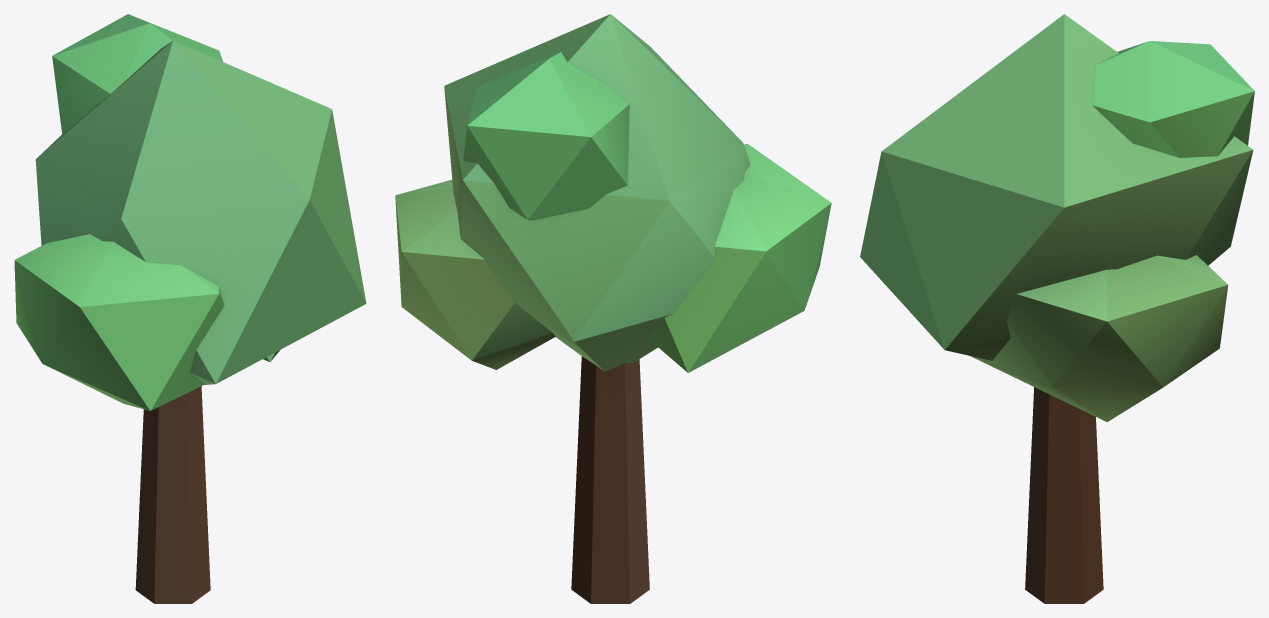
File: area_spring_2_3.fbx
The picture shows the model from 3 angles, left to right: view 1: azimuth 30°, elevation 25°; view 2: azimuth 150°, elevation 25°; view 3: azimuth 270°, elevation 25°; orthographic projection. The views are drawn at different scales.
Visible parts, largest first — view 1: area_spring_2_3_body; view 2: area_spring_2_3_body; view 3: area_spring_2_3_body.
Boxes of the visible parts, left/top/right/bottom form: area_spring_2_3_body: left=14, top=14, right=366, bottom=603; area_spring_2_3_body: left=395, top=14, right=831, bottom=603; area_spring_2_3_body: left=860, top=14, right=1254, bottom=603.
Bounding box in the file's own units: 1453 × 2224 × 1383.
1 material, 1 textured.
